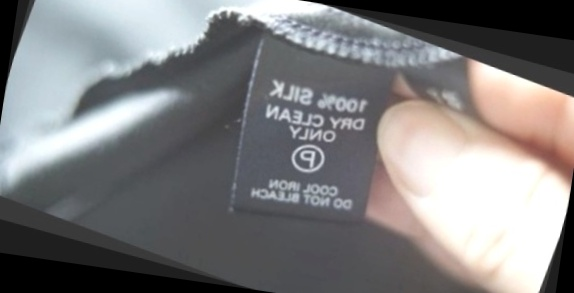dry_clean_any_solvent_except_trichloroethylene: (282, 133, 333, 182)
